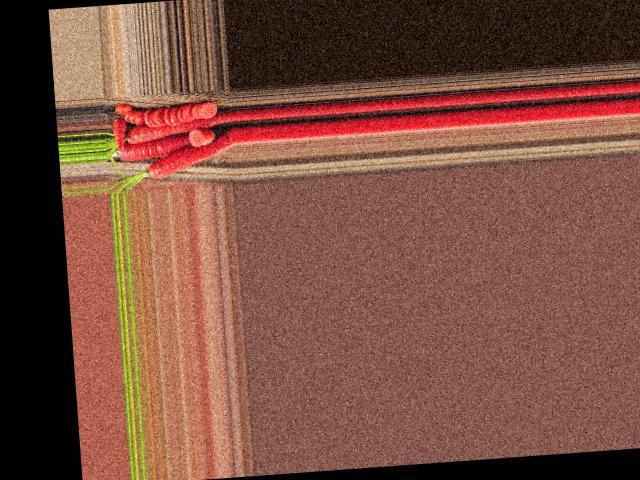carrot: (118, 108, 234, 148)
